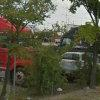Tree: (59, 0, 100, 70)
